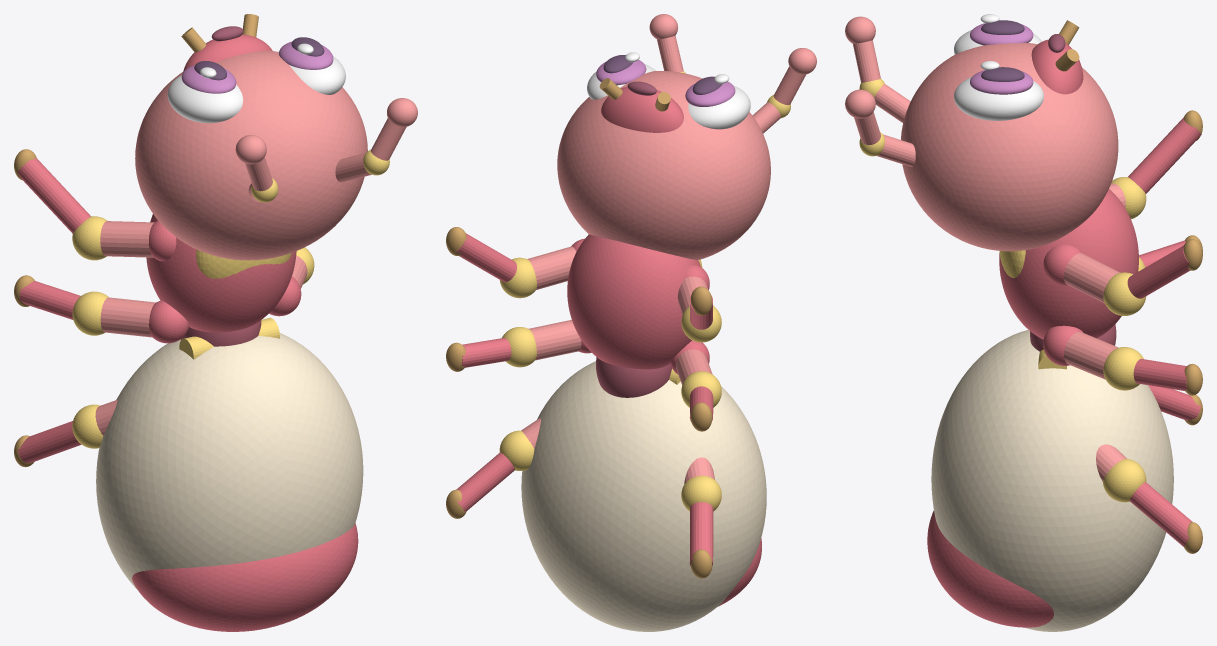
Rendered from ant_worker_kawaii.glb.
3 views of the same model, side by side, from view 1: azimuth 30°, elevation 25°; view 2: azimuth 150°, elevation 25°; view 3: azimuth 270°, elevation 25° (orthographic). The views are drawn at different scales.
Visible parts, largest first — view 1: Worker_abdomen_cream, Worker_head, Worker_abdomen_red_cap, Worker_thorax, Worker_eye_L_sclera, Worker_leg_L1_lower, Worker_leg_L2_upper, Worker_leg_L1_upper, Worker_leg_L3_lower, Worker_leg_L2_lower, Worker_muzzle, Worker_leg_L2_hip (+16 smaller); view 2: Worker_abdomen_cream, Worker_head, Worker_thorax, Worker_muzzle, Worker_petiole, Worker_eye_L_sclera, Worker_leg_R3_lower, Worker_leg_R2_upper, Worker_leg_R1_lower, Worker_leg_R1_upper, Worker_leg_L3_lower, Worker_leg_R2_lower (+19 smaller); view 3: Worker_abdomen_cream, Worker_head, Worker_thorax, Worker_abdomen_red_cap, Worker_eye_R_sclera, Worker_leg_L1_lower, Worker_leg_R3_lower, Worker_muzzle, Worker_leg_R1_lower, Worker_leg_R1_upper, Worker_leg_R2_upper, Worker_leg_R2_lower (+19 smaller).
Part boxes in pixels (x1,y1,x2,y2): Worker_abdomen_cream: [96, 333, 363, 589]; Worker_head: [135, 50, 367, 260]; Worker_abdomen_red_cap: [132, 523, 358, 631]; Worker_thorax: [146, 214, 296, 332]; Worker_eye_L_sclera: [167, 75, 243, 123]; Worker_leg_L1_lower: [17, 158, 90, 233]; Worker_leg_L2_upper: [100, 297, 155, 337]; Worker_leg_L1_upper: [100, 221, 154, 257]; Worker_leg_L3_lower: [17, 421, 81, 462]; Worker_leg_L2_lower: [19, 281, 80, 319]; Worker_muzzle: [183, 34, 272, 72]; Worker_leg_L2_hip: [149, 300, 189, 343]; Worker_abdomen_cream: [521, 361, 766, 631]; Worker_head: [557, 71, 770, 259]; Worker_thorax: [567, 234, 700, 369]; Worker_muzzle: [601, 87, 683, 132]; Worker_petiole: [596, 357, 671, 397]; Worker_eye_L_sclera: [688, 86, 750, 129]; Worker_leg_R3_lower: [456, 452, 514, 511]; Worker_leg_R2_upper: [528, 320, 581, 360]; Worker_leg_R1_lower: [455, 233, 516, 281]; Worker_leg_R1_upper: [527, 246, 576, 289]; Worker_leg_L3_lower: [689, 502, 713, 565]; Worker_leg_R2_lower: [461, 338, 511, 367]; Worker_abdomen_cream: [931, 330, 1173, 631]; Worker_head: [901, 43, 1118, 251]; Worker_thorax: [999, 189, 1138, 339]; Worker_abdomen_red_cap: [927, 510, 1053, 627]; Worker_eye_R_sclera: [954, 76, 1043, 120]; Worker_leg_L1_lower: [1128, 117, 1201, 193]; Worker_leg_R3_lower: [1129, 482, 1192, 546]; Worker_muzzle: [1031, 39, 1083, 94]; Worker_leg_R1_lower: [1127, 245, 1190, 298]; Worker_leg_R1_upper: [1063, 253, 1120, 303]; Worker_leg_R2_upper: [1064, 332, 1118, 379]; Worker_leg_R2_lower: [1133, 359, 1187, 390].
Size of the model in its own units: 1.6 by 3.14 by 1.74.
